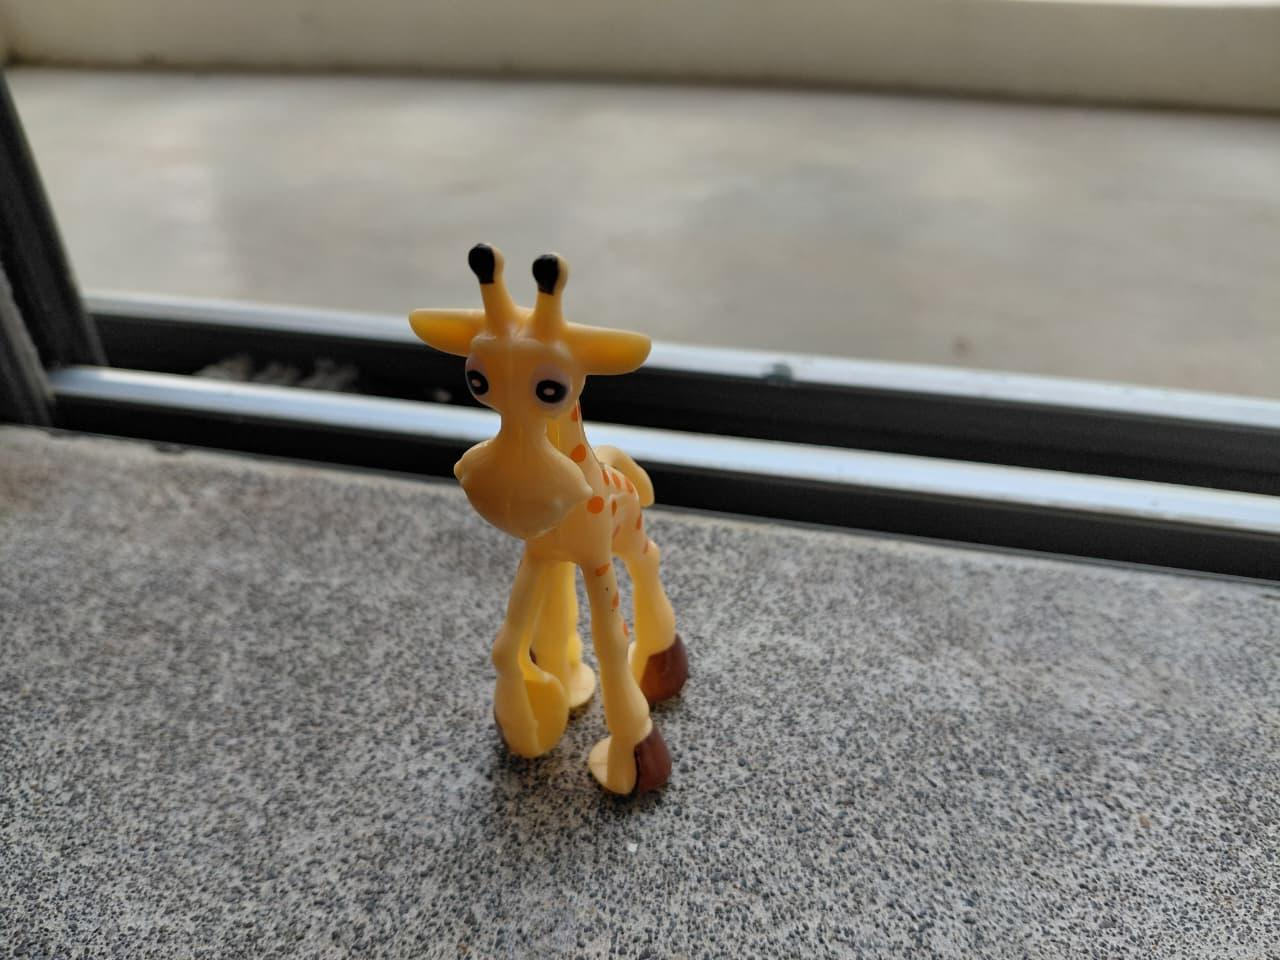giraffe: (372, 227, 770, 860)
